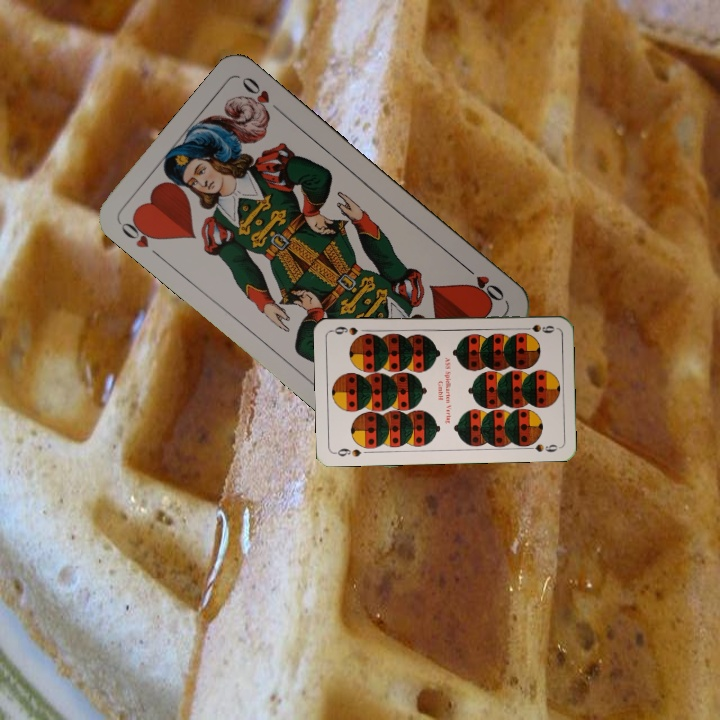HO: (116, 213, 165, 262), (459, 261, 507, 305)
S9: (517, 320, 557, 335), (331, 445, 364, 459)
